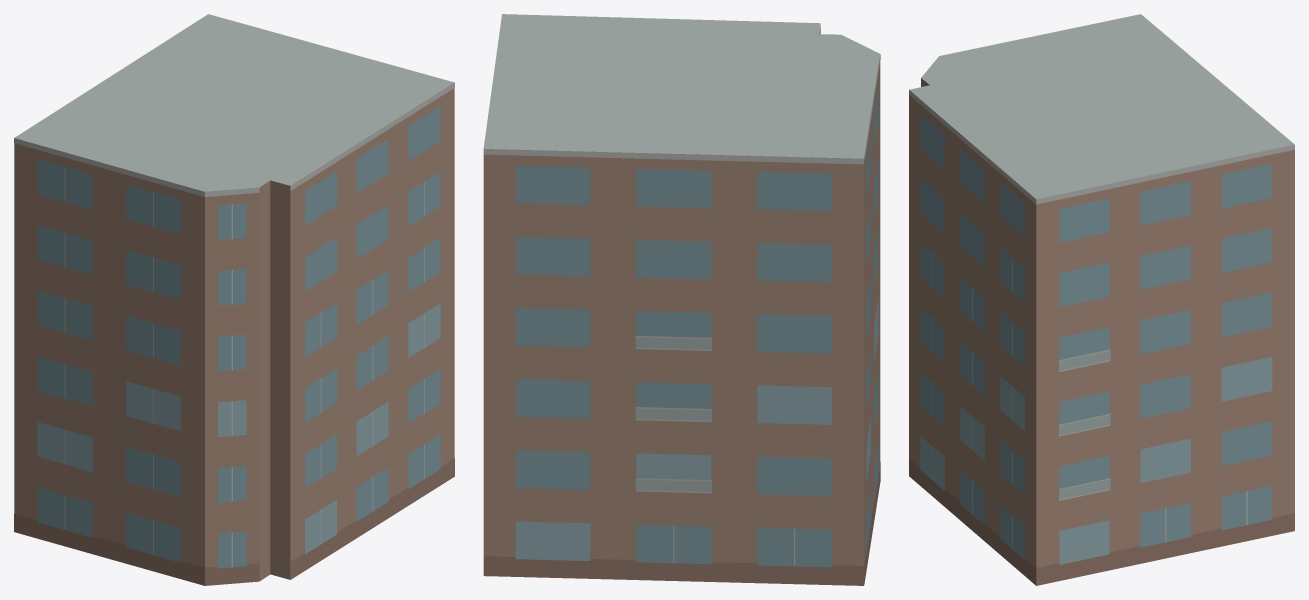
File: survey-upis-32700762.glb
The picture shows the model from 3 angles, left to right: view 1: azimuth 30°, elevation 25°; view 2: azimuth 150°, elevation 25°; view 3: azimuth 270°, elevation 25°; orthographic projection. The views are drawn at different scales.
Parts seen in each view (by area): view 1: survey-upis-32700762.tmp; view 2: survey-upis-32700762.tmp; view 3: survey-upis-32700762.tmp.
Boxes of the visible parts, x1,y1,x2,y2 form: survey-upis-32700762.tmp: [14, 14, 454, 585]; survey-upis-32700762.tmp: [483, 14, 880, 585]; survey-upis-32700762.tmp: [909, 14, 1294, 585].
Bounding box in the file's own units: 18.83 × 18.3 × 16.56.
